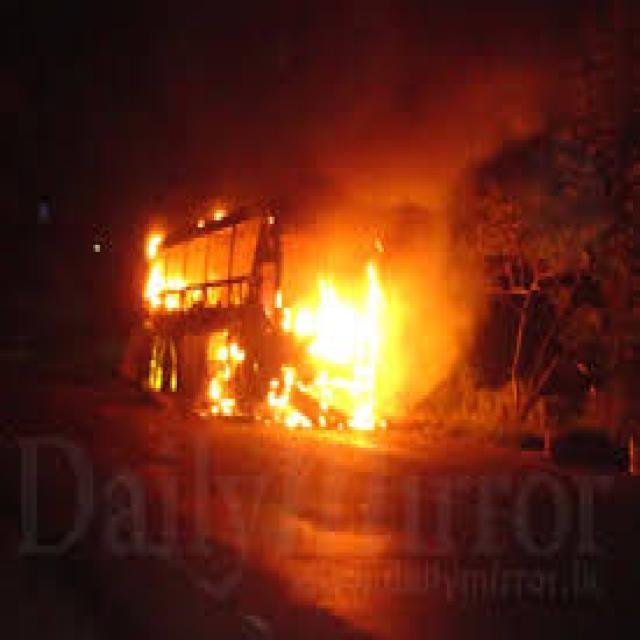Fire: (286, 262, 402, 436), (142, 224, 182, 310), (206, 338, 242, 414), (268, 369, 305, 426)
